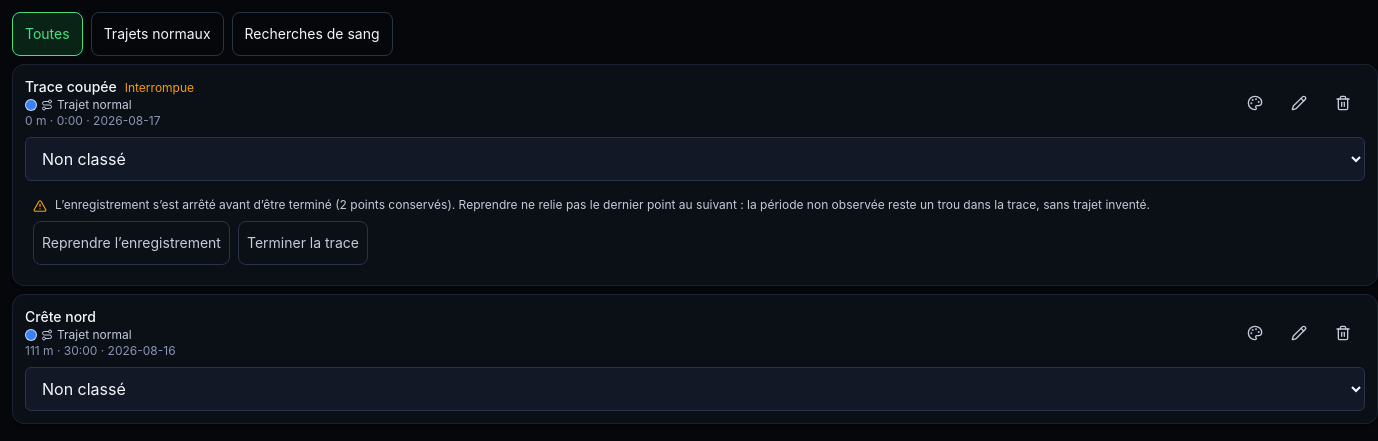
Test: TrackList › renames a track and persists the new name
Click the button named "Renommer Crête nord".
click(1299, 333)  # box [1277, 311, 1321, 355]
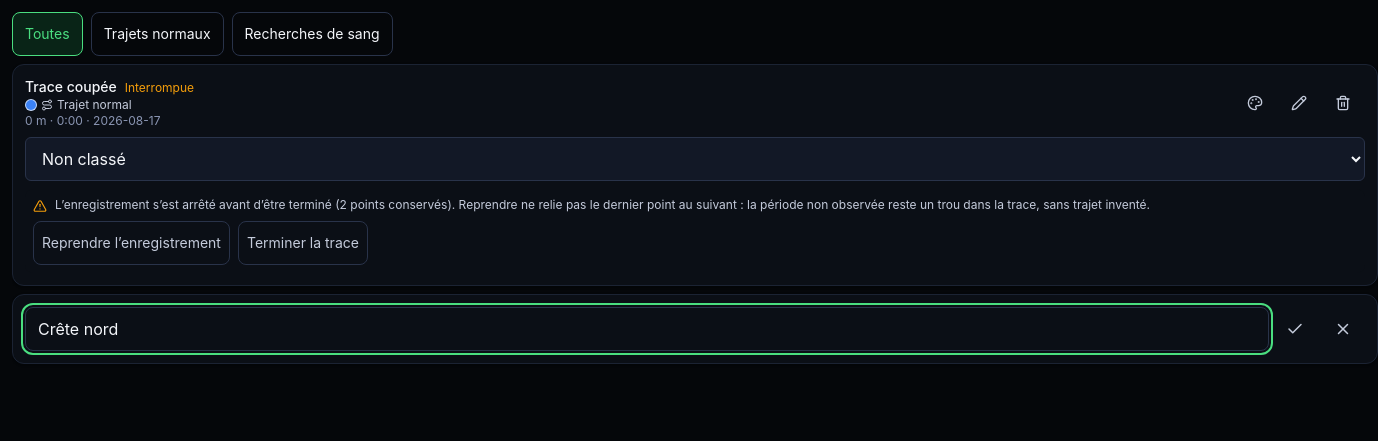
Replace the text in the field named "Nouveau nom de Crête nord" with "Sentier du lac" at (647, 329), box [25, 307, 1269, 351]
Then press Enter
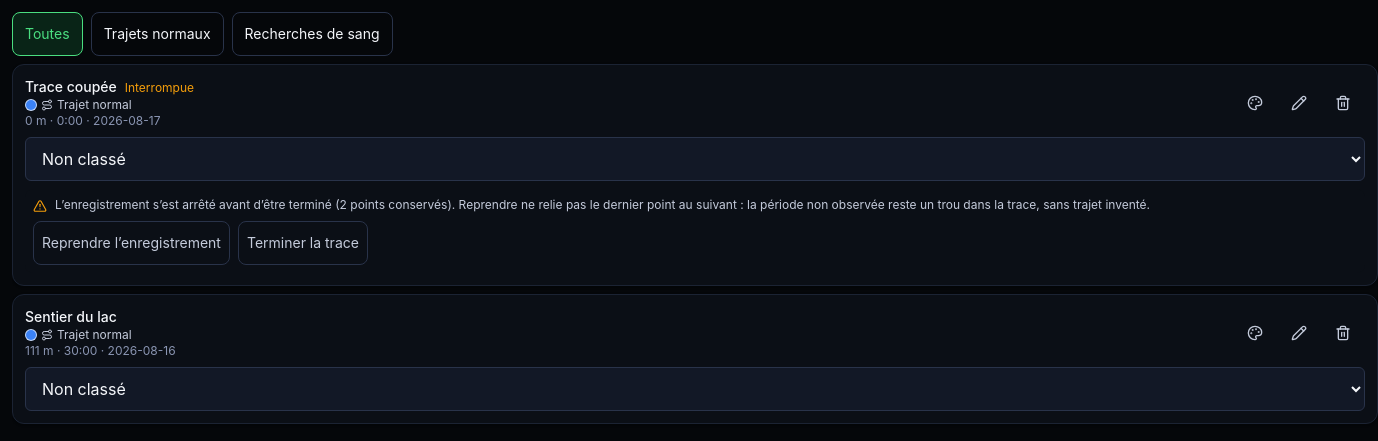
Expected: the text "Sentier du lac" is shown, [25, 308, 117, 325]
